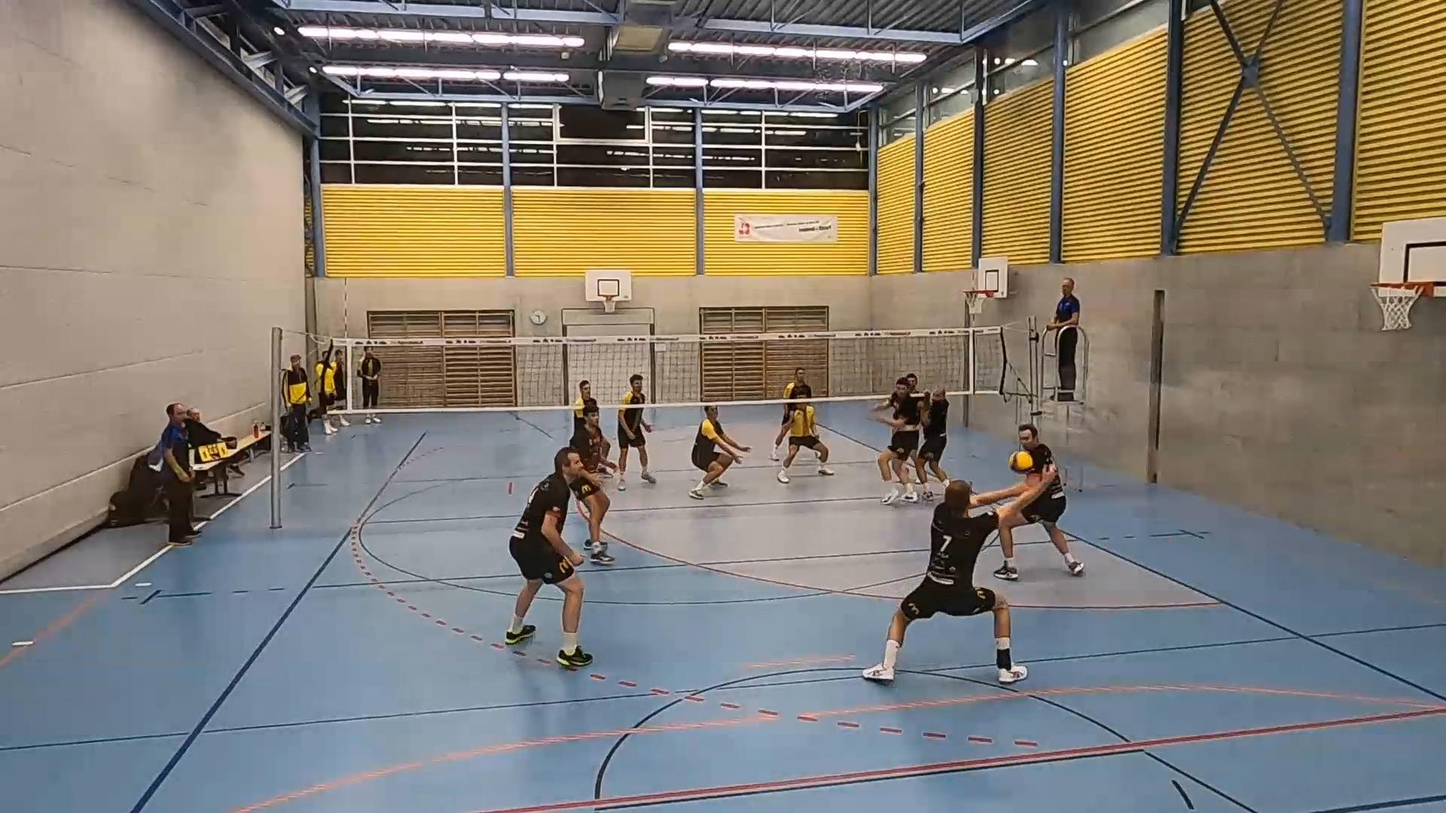difesa: (893, 475, 1050, 678)
